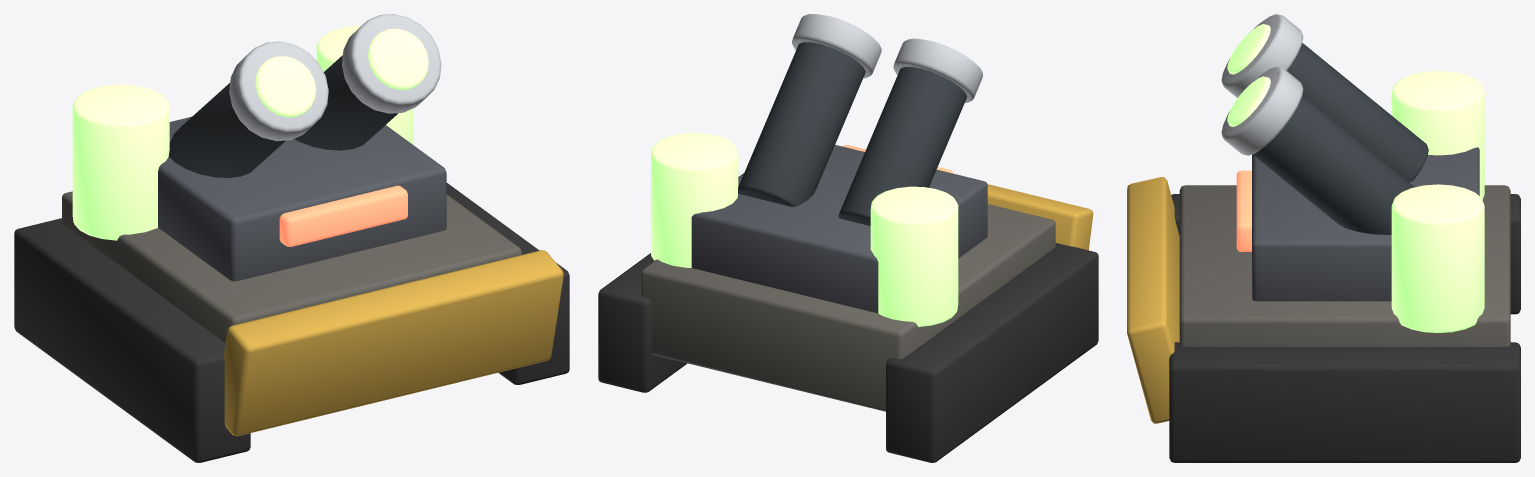
File: enemy_mortaio_acido.glb
3 renders of one model, left to right at view 1: azimuth 30°, elevation 25°; view 2: azimuth 150°, elevation 25°; view 3: azimuth 270°, elevation 25°, orthographic. The views are drawn at different scales.
Parts seen in each view (by area): view 1: FrontDozerShield, TrackUnit_-1, TurretDeck, CrawlerHull, AcidDrum_-1, MortarTube_-1, MortarCollar_-1, MortarCollar_1, OpticSensor, MortarTube_1, TrackUnit_1, MortarGlow_1 (+2 smaller); view 2: CrawlerHull, TrackUnit_-1, TurretDeck, MortarTube_1, AcidDrum_-1, MortarTube_-1, AcidDrum_1, TrackUnit_1, FrontDozerShield, MortarCollar_-1, MortarCollar_1; view 3: TrackUnit_1, CrawlerHull, TurretDeck, AcidDrum_1, MortarTube_1, FrontDozerShield, AcidDrum_-1, MortarTube_-1, MortarCollar_1, MortarCollar_-1, TrackUnit_-1, OpticSensor (+2 smaller).
Part boxes in pixels (<box>): FrontDozerShield: <box>224,250,563,436</box>; TrackUnit_-1: <box>14,218,250,462</box>; TurretDeck: <box>158,116,446,281</box>; CrawlerHull: <box>62,191,521,342</box>; AcidDrum_-1: <box>72,85,169,240</box>; MortarTube_-1: <box>168,83,285,177</box>; MortarCollar_-1: <box>229,41,328,141</box>; MortarCollar_1: <box>342,14,441,113</box>; OpticSensor: <box>279,185,407,246</box>; MortarTube_1: <box>294,55,398,150</box>; TrackUnit_1: <box>446,183,569,384</box>; MortarGlow_1: <box>368,28,428,89</box>; CrawlerHull: <box>641,204,1055,411</box>; TrackUnit_-1: <box>886,243,1098,462</box>; TurretDeck: <box>691,145,987,313</box>; MortarTube_1: <box>738,42,865,206</box>; AcidDrum_-1: <box>870,186,958,326</box>; MortarTube_-1: <box>838,67,966,225</box>; AcidDrum_1: <box>651,133,738,267</box>; TrackUnit_1: <box>598,253,687,392</box>; FrontDozerShield: <box>987,184,1093,250</box>; MortarCollar_-1: <box>893,38,982,102</box>; MortarCollar_1: <box>792,14,881,78</box>; TrackUnit_1: <box>1169,342,1520,462</box>; CrawlerHull: <box>1179,185,1510,346</box>; TurretDeck: <box>1252,147,1479,301</box>; AcidDrum_1: <box>1391,184,1484,332</box>; MortarTube_1: <box>1253,95,1414,234</box>; FrontDozerShield: <box>1127,177,1179,423</box>; AcidDrum_-1: <box>1391,71,1484,199</box>; MortarTube_-1: <box>1287,43,1428,181</box>; MortarCollar_1: <box>1221,66,1303,155</box>; MortarCollar_-1: <box>1221,14,1303,97</box>; TrackUnit_-1: <box>1171,194,1520,314</box>; OpticSensor: <box>1236,170,1251,251</box>.
Bounding box in the file's own units: 1.6 × 1.42 × 1.52.
